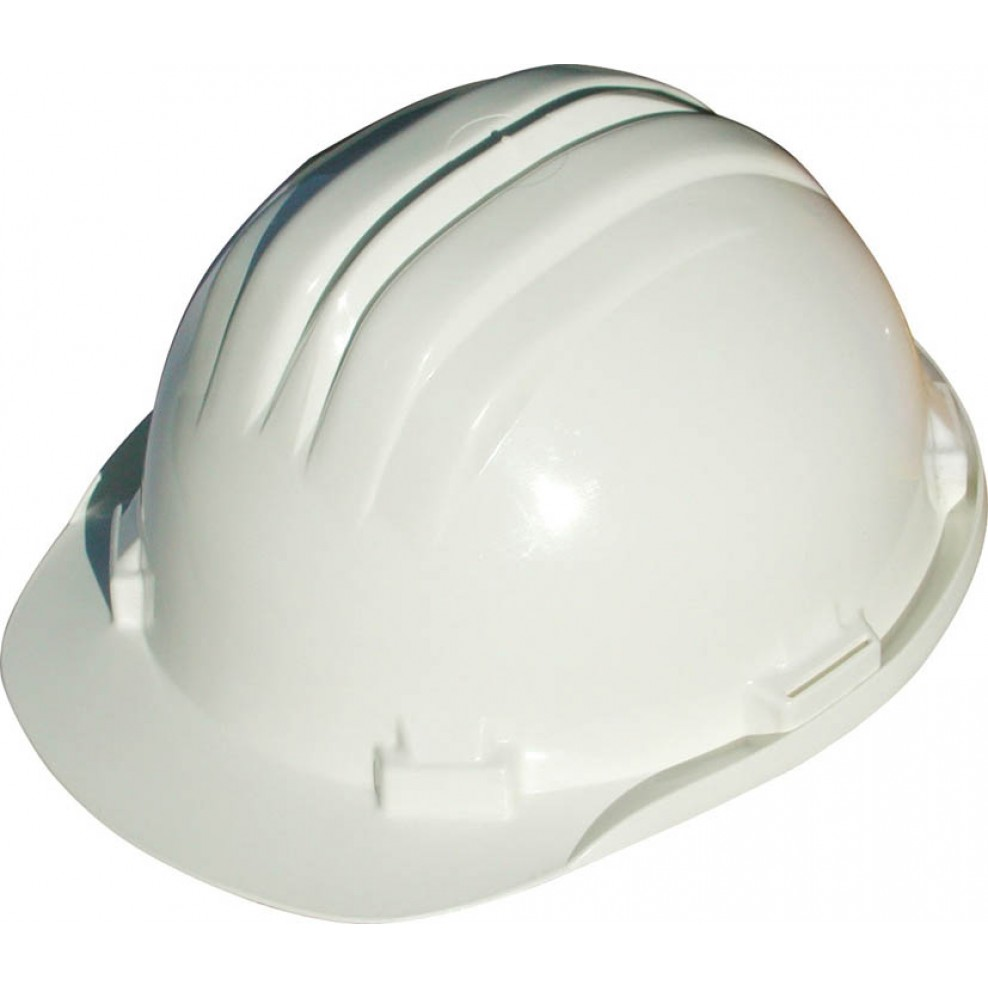casco: (1, 61, 988, 927)
